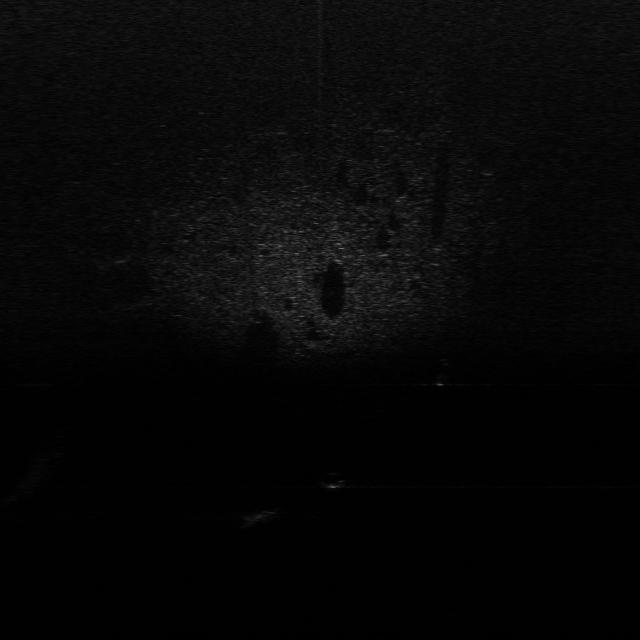ball: (320, 469, 348, 488)
square cage: (238, 501, 284, 525)
tyre: (428, 355, 458, 391)
